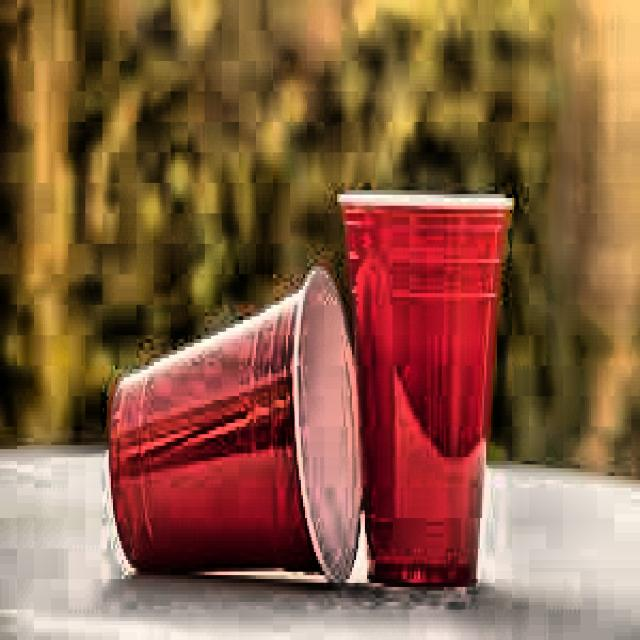plastic cup: (111, 268, 362, 581), (342, 196, 510, 584)
